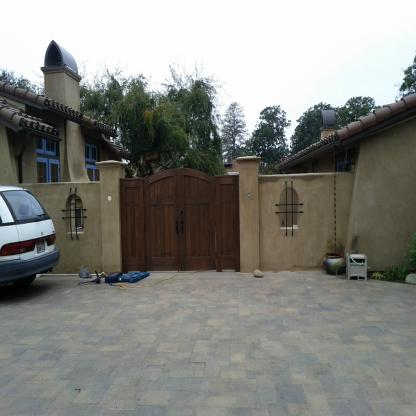Car: (3, 182, 61, 289)
